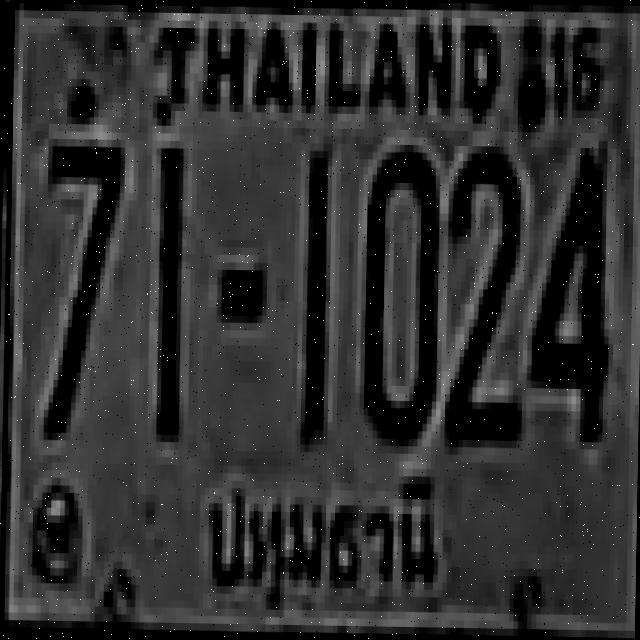0: (358, 144, 436, 439)
1: (154, 144, 182, 438), (300, 147, 328, 440)
2: (444, 146, 517, 440)
4: (525, 143, 607, 438)
7: (43, 138, 120, 434), (44, 138, 120, 410)
PathumThani: (195, 464, 452, 618)
